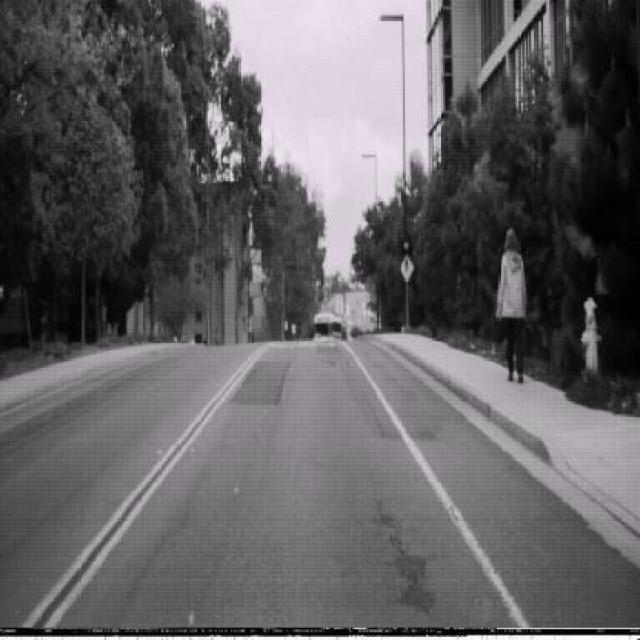pedestrianCrossing: (400, 251, 415, 284)
